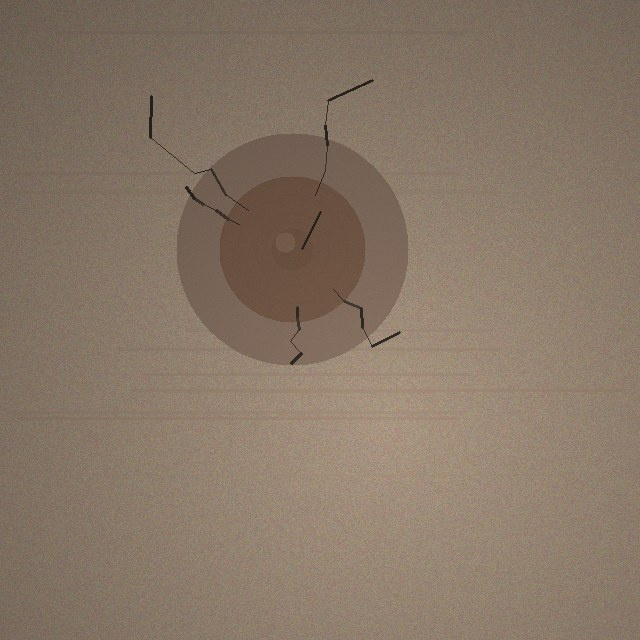crack: (176, 133, 408, 365)
